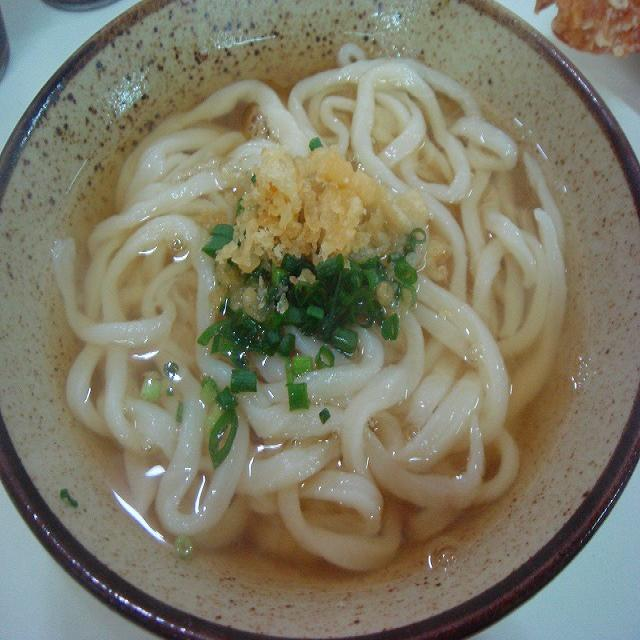面条主食: (8, 0, 640, 635)
